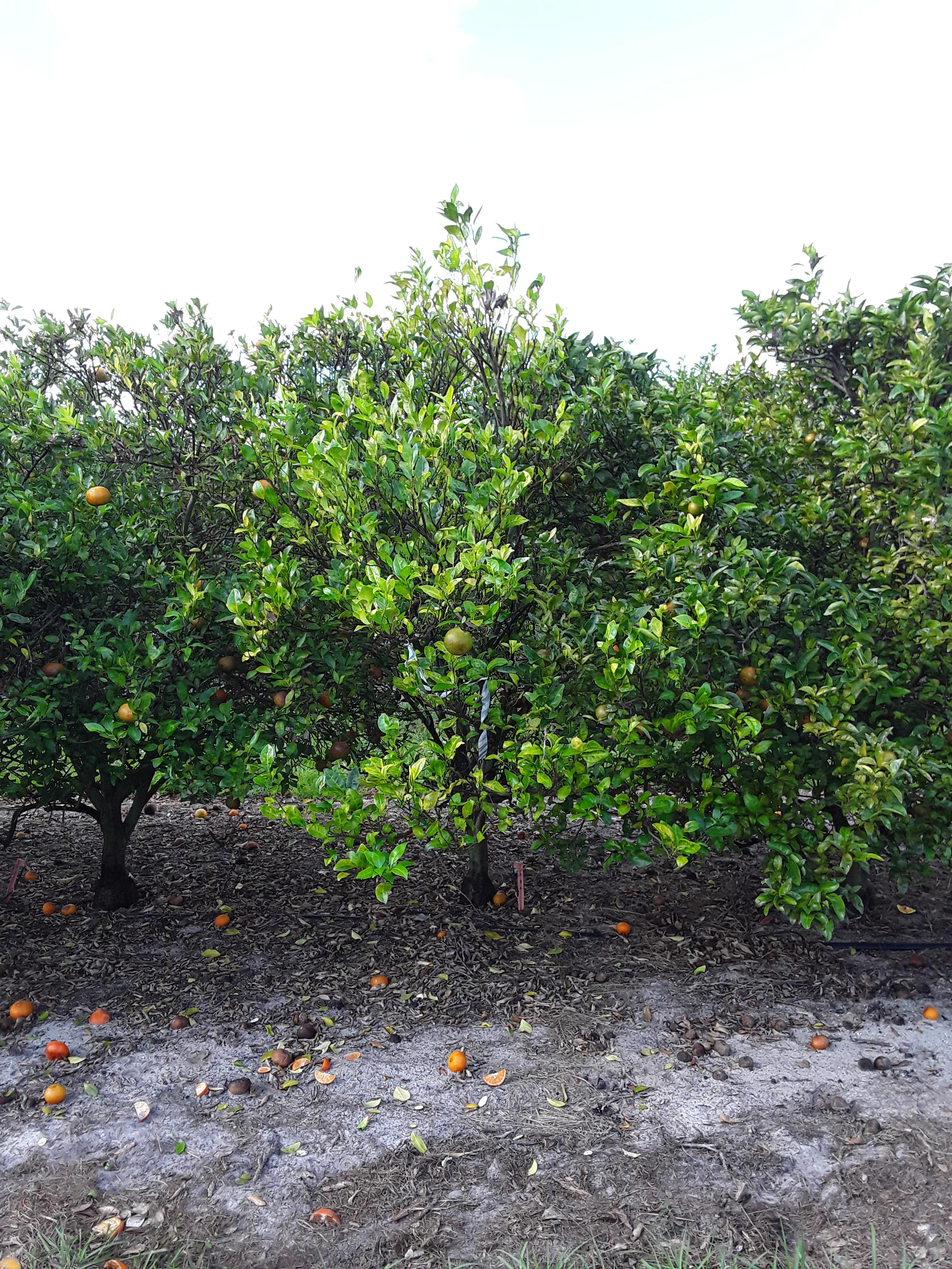fruit_on_ground: (442, 625, 475, 657), (83, 482, 113, 507), (249, 475, 277, 501), (906, 799, 933, 822), (41, 658, 68, 681), (737, 664, 761, 687), (332, 624, 357, 646), (682, 494, 706, 516), (328, 741, 351, 762), (206, 686, 230, 706), (628, 717, 650, 738), (187, 613, 209, 634), (90, 363, 112, 384), (115, 701, 136, 723), (270, 688, 290, 710), (602, 641, 624, 660), (760, 694, 782, 713), (215, 654, 237, 673), (187, 572, 208, 591), (316, 689, 335, 709), (364, 727, 385, 745), (800, 428, 819, 447), (592, 703, 611, 722), (365, 662, 385, 680), (557, 468, 575, 486), (734, 685, 753, 701), (313, 756, 330, 772), (224, 795, 241, 810), (340, 726, 355, 741)
fruit_on_tree: (308, 1206, 341, 1228), (96, 1214, 126, 1238), (44, 1039, 70, 1062), (445, 1049, 469, 1073), (43, 1081, 66, 1105), (8, 998, 34, 1019), (131, 1099, 153, 1123), (481, 1067, 507, 1086), (227, 1076, 251, 1096), (269, 1047, 291, 1068), (89, 1007, 112, 1026), (313, 1069, 337, 1085), (809, 1033, 830, 1051), (99, 1257, 130, 1269), (292, 1055, 312, 1073), (907, 951, 928, 968), (0, 1254, 23, 1269), (212, 912, 231, 930), (921, 1004, 940, 1022), (296, 1021, 316, 1038), (369, 973, 390, 989), (873, 1055, 892, 1072), (170, 1014, 189, 1031), (492, 889, 509, 906), (194, 1081, 210, 1097), (167, 891, 184, 906), (615, 920, 632, 935), (142, 801, 158, 816), (41, 900, 57, 915), (689, 1042, 706, 1056), (289, 1012, 305, 1026), (60, 902, 77, 915), (318, 1056, 332, 1071), (193, 806, 209, 819), (23, 868, 38, 881), (243, 839, 258, 851), (256, 1063, 270, 1075), (651, 894, 665, 906), (435, 927, 448, 939), (173, 836, 186, 848), (226, 807, 240, 818), (516, 829, 528, 839), (237, 821, 248, 831)
